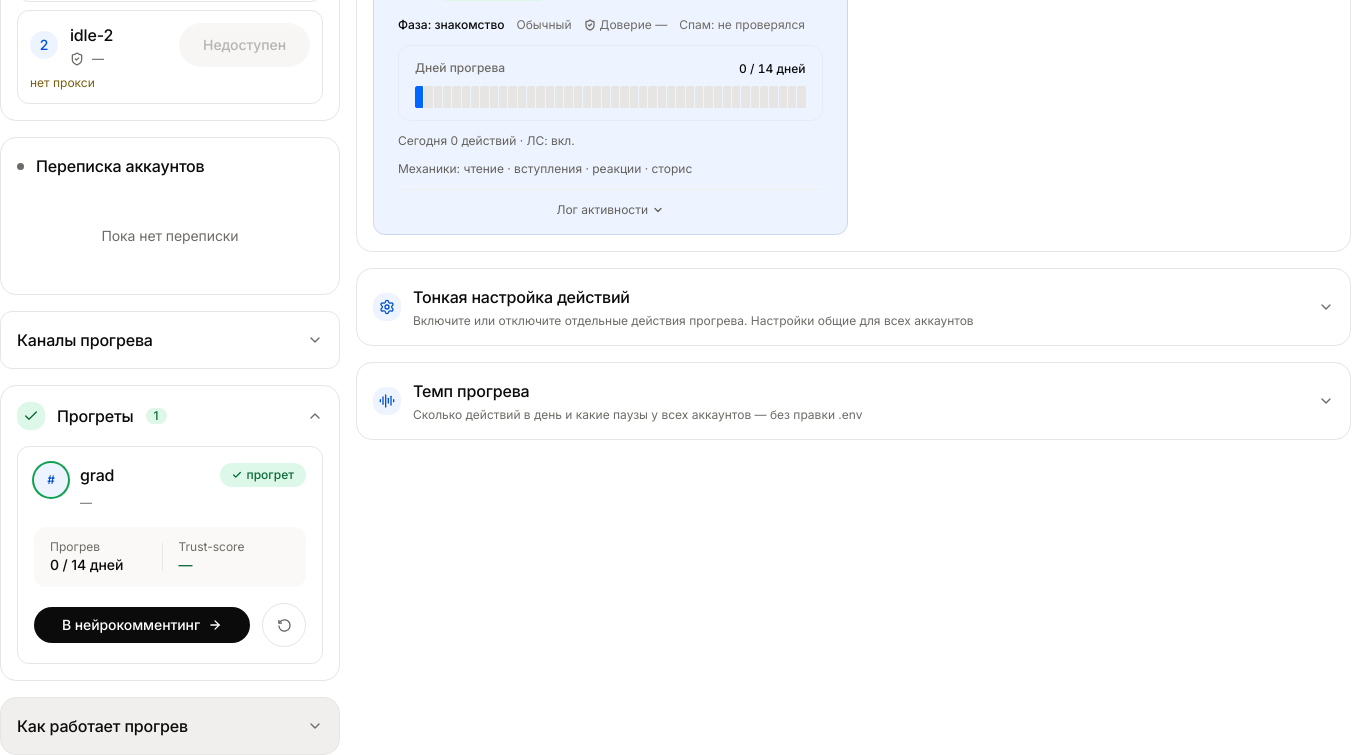
Scenario: a hand-off @SpamBot did not answer offers only a retry
(page scrolled)
Step 1. Click the button "В нейрокомментинг" → x=142, y=625, box [34,607,250,643]
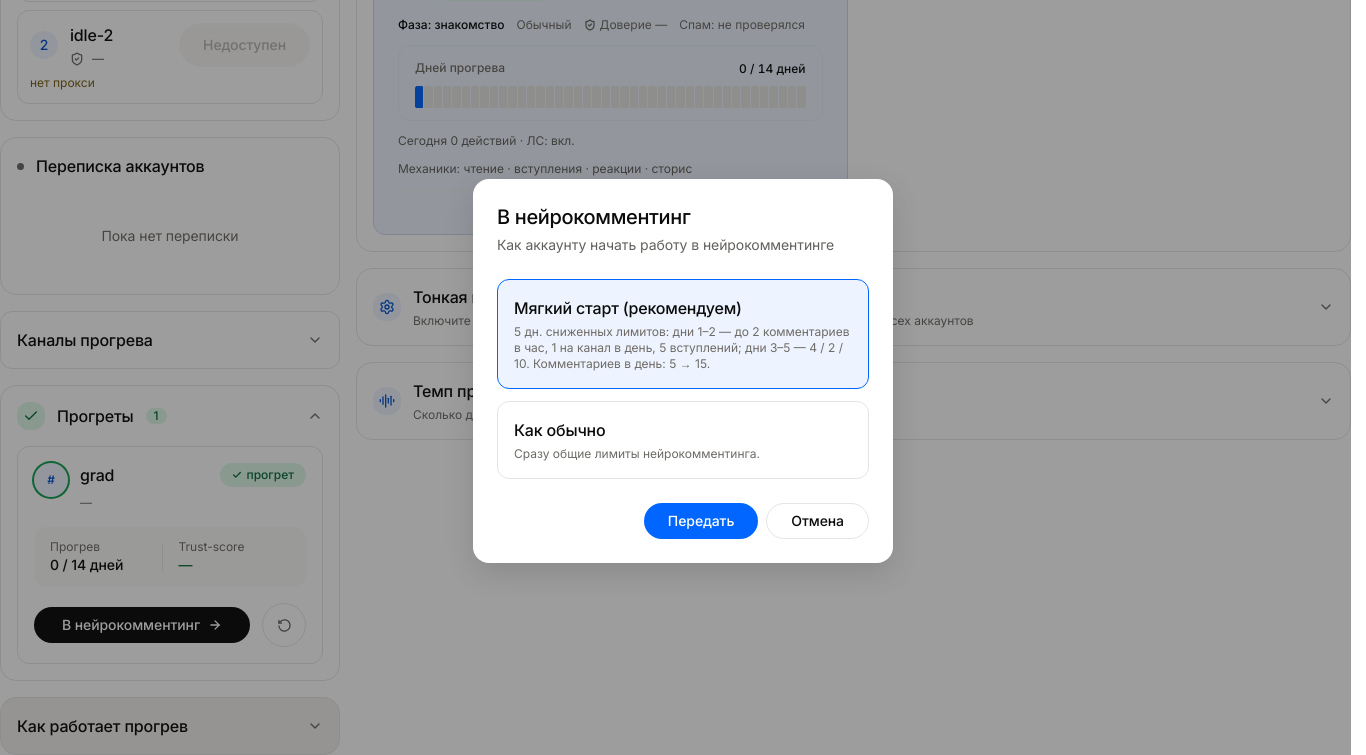
Step 2. Click the button "Передать" → x=701, y=521, box [644,503,758,539]
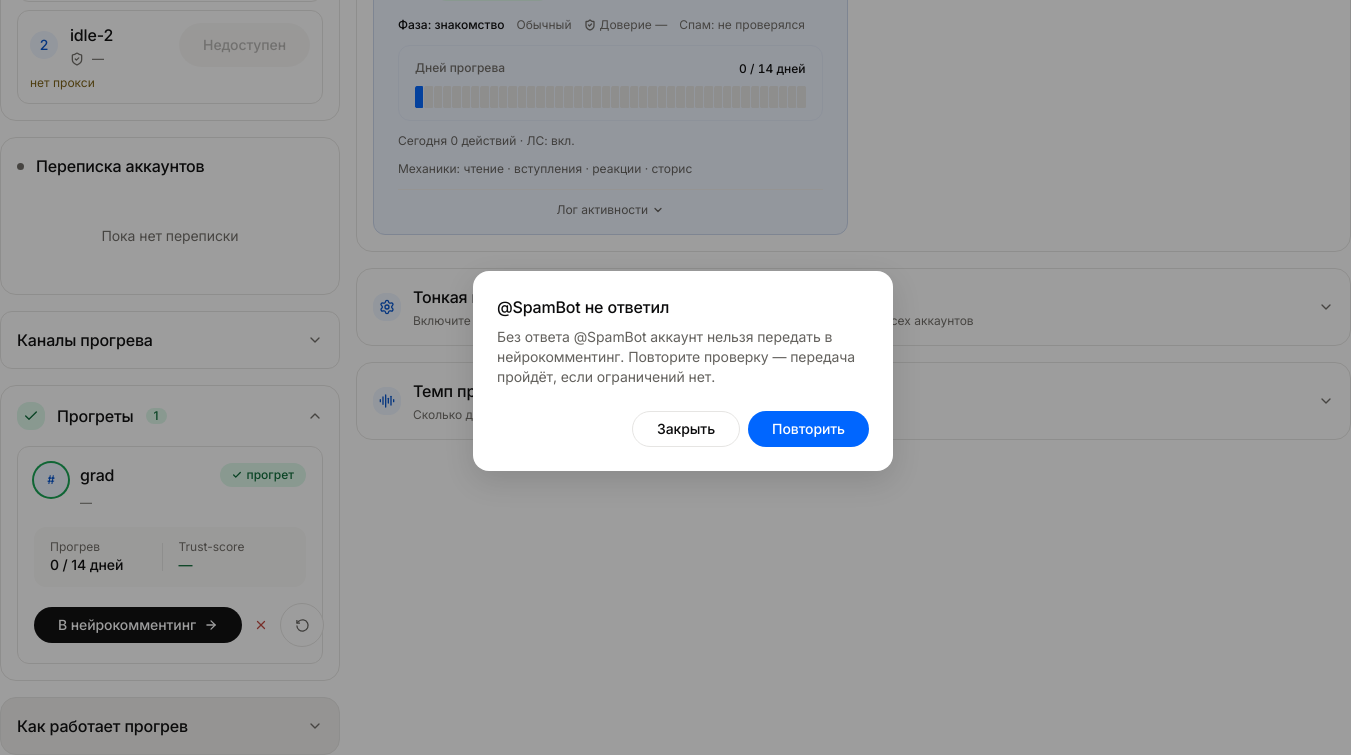
Now the dialog "@SpamBot не ответил" shows "Повторить"
Step 3. Click the button "Повторить" → x=808, y=429, box [748,411,869,447]
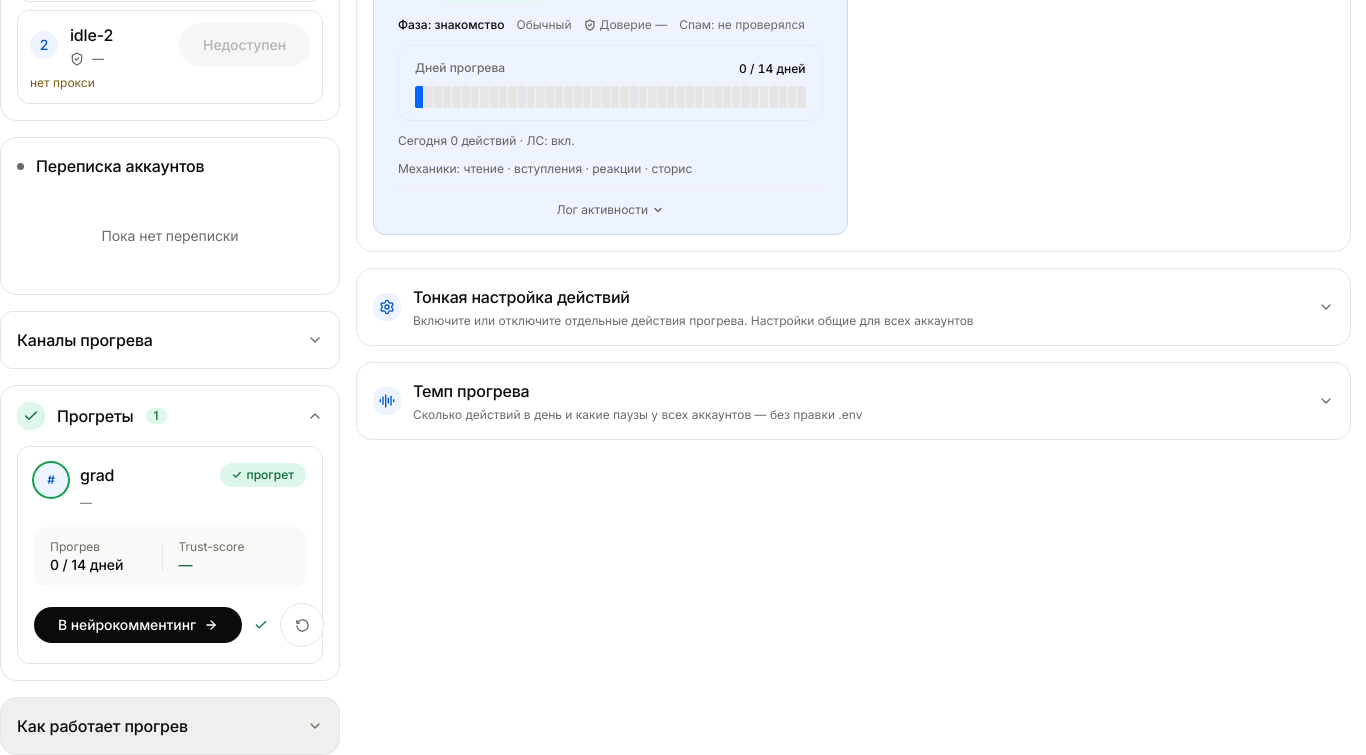
Now the text "@SpamBot не ответил" is gone
